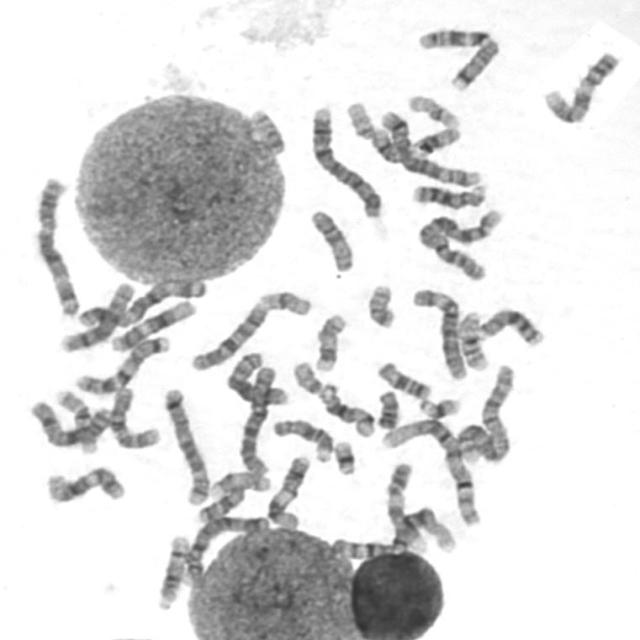A1: (375, 414, 483, 528), (323, 502, 458, 563)
A2: (413, 204, 508, 283), (452, 359, 519, 466)
A3: (74, 272, 209, 330), (29, 171, 82, 318)
B4: (305, 100, 385, 220), (178, 510, 272, 586)
B5: (374, 106, 484, 188), (157, 383, 212, 507)
C10: (186, 297, 270, 373), (104, 381, 162, 450)
C11: (366, 121, 462, 164), (263, 451, 313, 530)
C12: (105, 295, 199, 353), (40, 462, 128, 505)
C6: (407, 283, 470, 381), (234, 360, 280, 476)
C7: (70, 331, 172, 395), (412, 21, 502, 93)
C8: (54, 278, 136, 354), (221, 346, 291, 407)
C9: (538, 46, 622, 125), (380, 456, 428, 554)
D13: (472, 302, 546, 348), (407, 178, 490, 211)
D14: (316, 378, 378, 438), (150, 530, 192, 612)
D15: (304, 204, 358, 273), (268, 414, 336, 464)
E16: (48, 384, 102, 454), (453, 306, 491, 372)
E17: (310, 308, 349, 373), (205, 466, 273, 498)
E18: (372, 356, 434, 401), (192, 482, 246, 524)
F19: (403, 90, 462, 129), (254, 285, 315, 318)
F20: (245, 103, 288, 156), (362, 278, 398, 330)
G21: (414, 392, 463, 420), (329, 434, 358, 476)
G22: (342, 96, 378, 140), (288, 356, 324, 396)
X: (23, 392, 112, 450)
Y: (372, 386, 401, 430)
